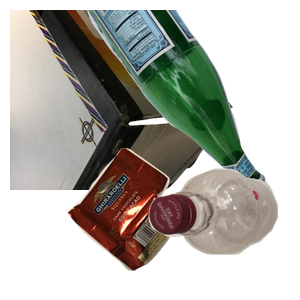cardboard: (10, 10, 238, 190)
glass: (75, 10, 300, 190)
plastic: (146, 166, 300, 300)
trash: (65, 145, 242, 300)
